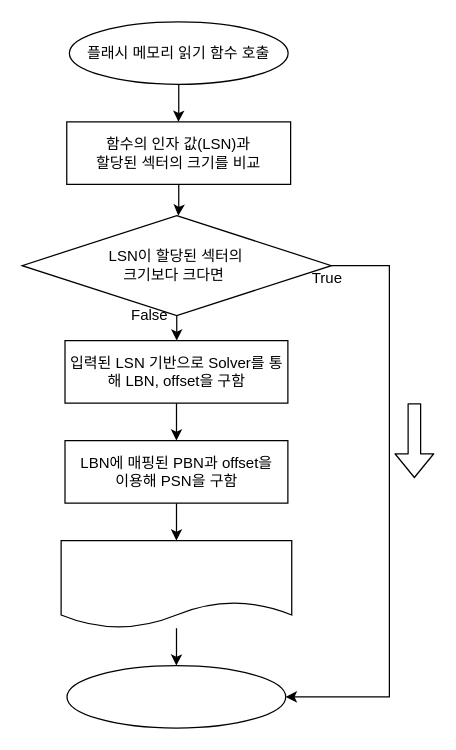
The diagram is 456 pixels wide and 750 high, and some of its shapes have lost their labels. The shapes that lost their labels are listed below. From the top down, each one's centre as x and y in pixels, then its label:
pixel 176 583: 해당 섹터의 데이터 크기만큼 데이터를 출력해준다.
pixel 176 696: 플래시 메모리 읽기 함수 종료
